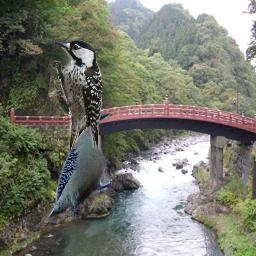Woodpecker: (46, 111, 112, 221), (47, 39, 102, 153)
